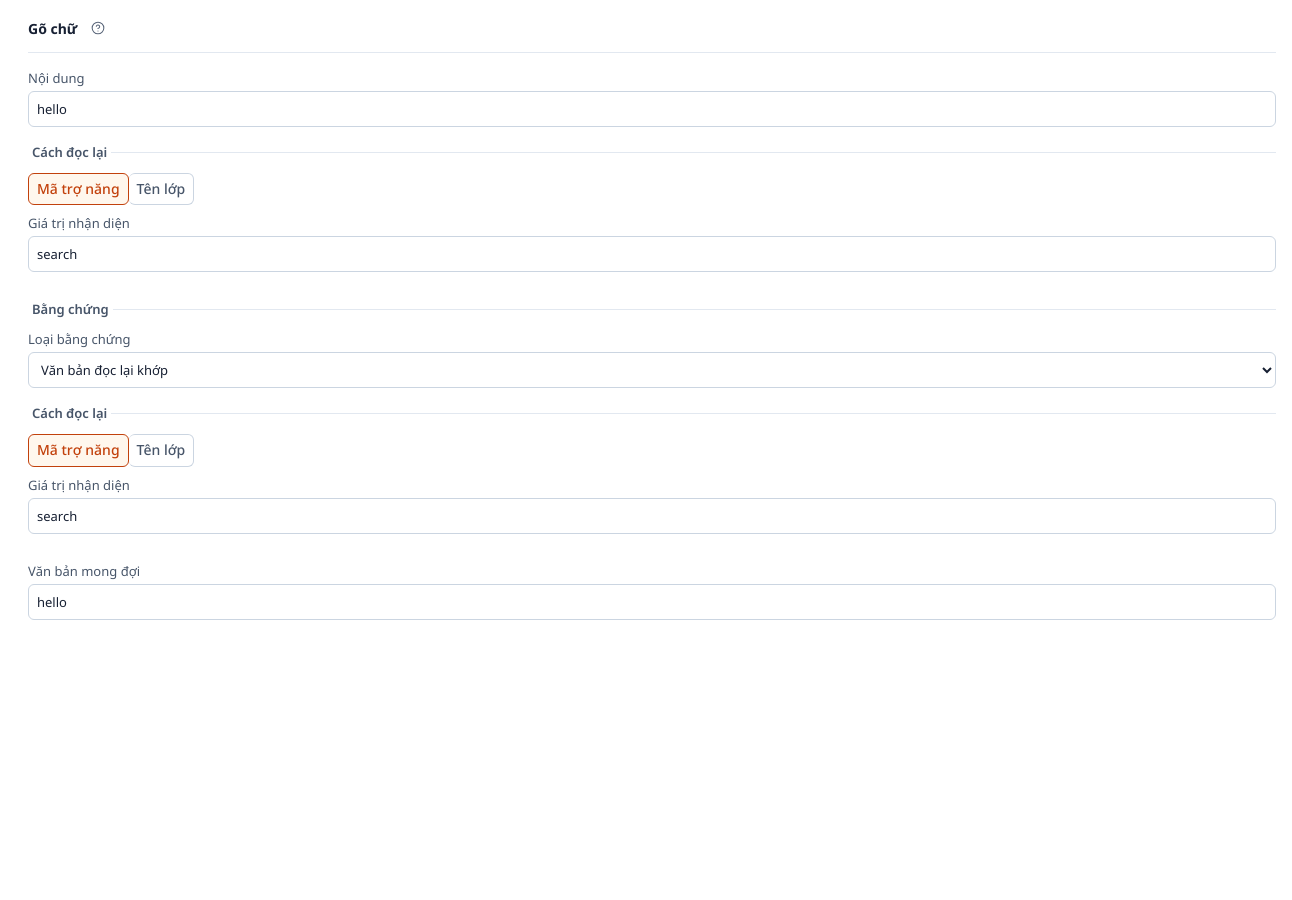
FlowInspector › uses a two-option Type Text read-back locator and synchronizes its evidence
Click the button "Tên lớp" below "Nội dung" at (161, 189), box [129,173,194,205]
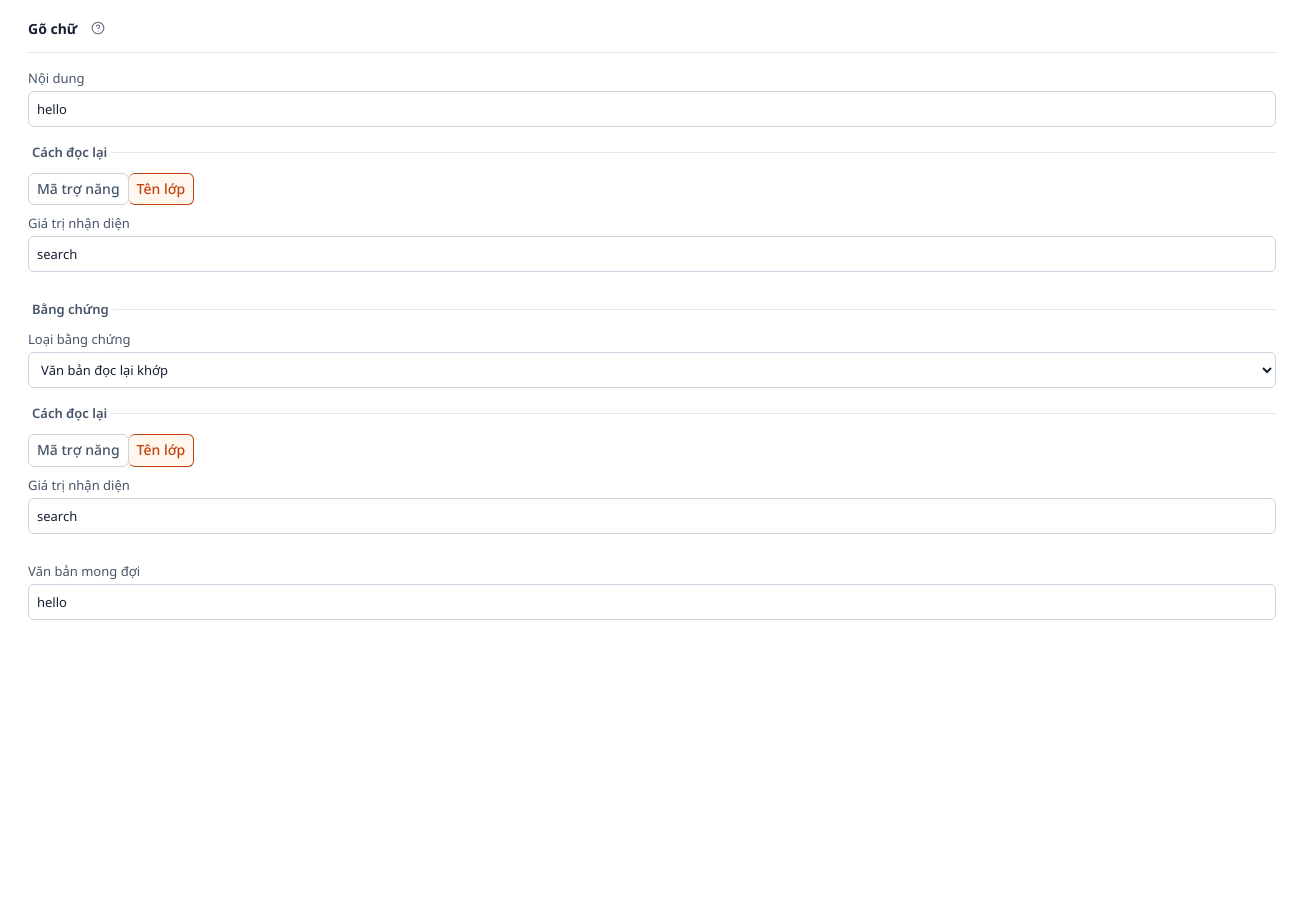
Replace the text in the field labelled "Nội dung" with "updated" at (652, 109), box [28,91,1276,127]
(page scrolled)
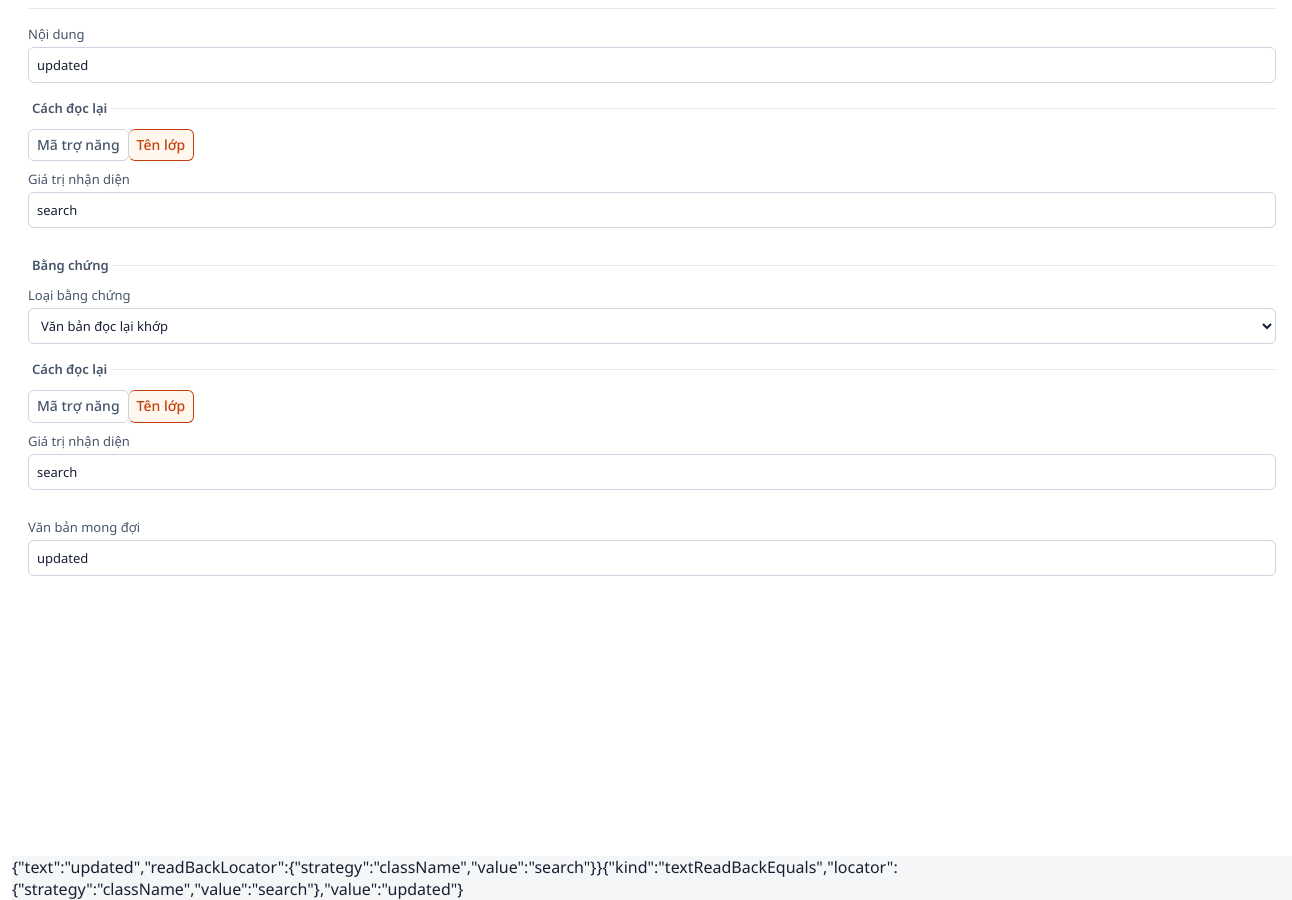
Now the text with test id "evidence" shows "\"value\":\"updated\"", box [12,856,898,899]
